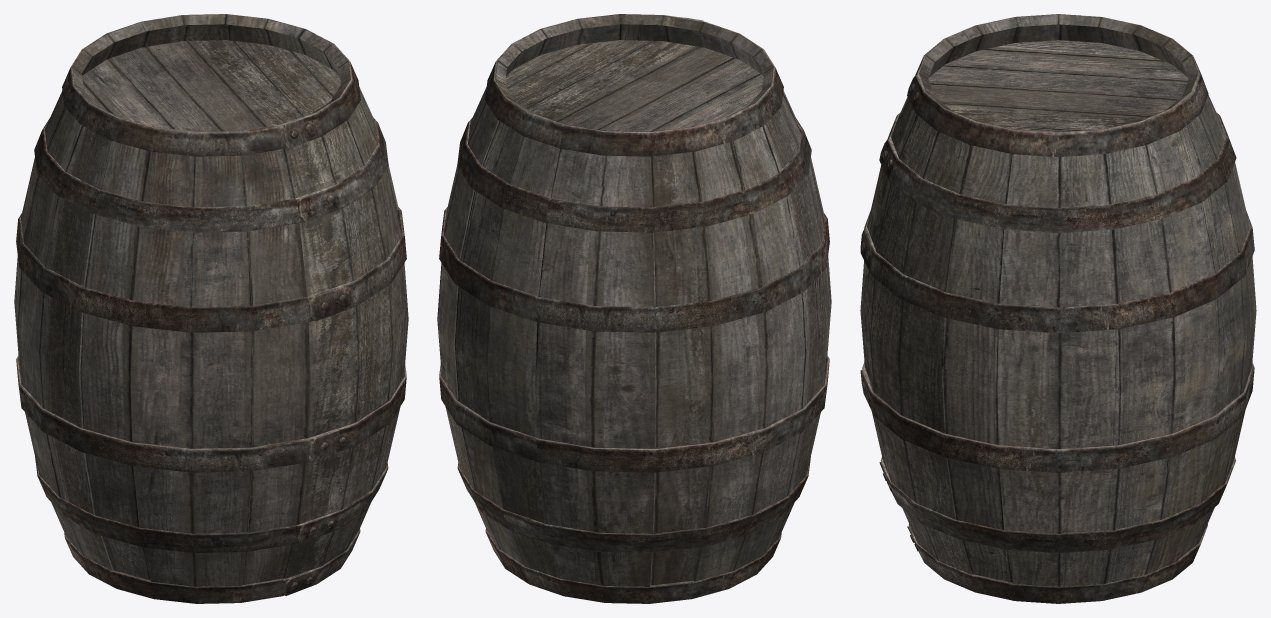
File: SM_Barrel_Closed.fbx
3 views of the same model, side by side, from view 1: azimuth 30°, elevation 25°; view 2: azimuth 150°, elevation 25°; view 3: azimuth 270°, elevation 25° (orthographic).
Parts seen in each view (by area): view 1: SM_Barrel_Closed; view 2: SM_Barrel_Closed; view 3: SM_Barrel_Closed.
Part boxes in pixels (x1,y1,x2,y2): SM_Barrel_Closed: (14,14,408,603); SM_Barrel_Closed: (437,14,831,603); SM_Barrel_Closed: (860,14,1256,603).
Bounding box in the file's own units: 89.41 × 117 × 89.41.
